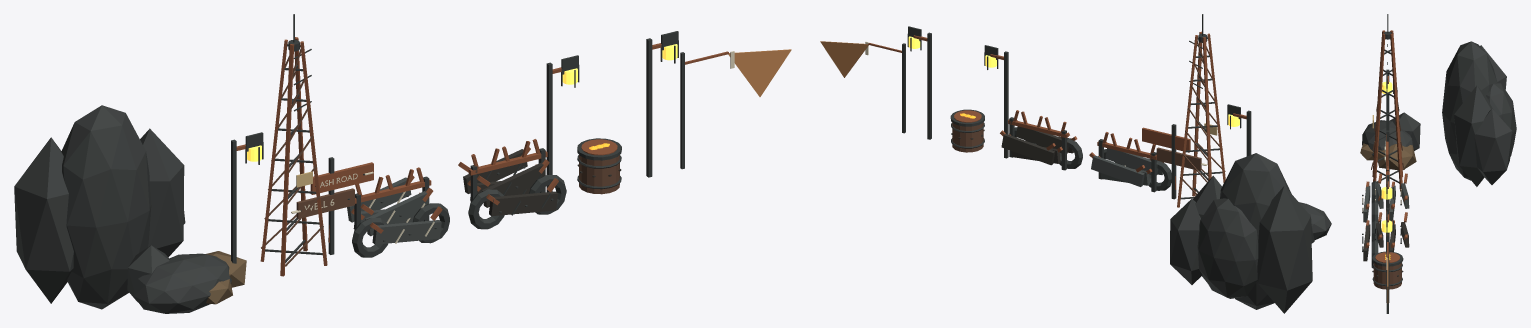
Rendered from kit.glb.
3 renders of one model, left to right at view 1: azimuth 30°, elevation 25°; view 2: azimuth 150°, elevation 25°; view 3: azimuth 270°, elevation 25°, orthographic. The views are drawn at different scales.
Parts seen in each view (by area): view 1: basalt-cliff-face-1, basalt-cliff-face-3, basalt-rock-1, basalt-cliff-face-2, side-job-flag-weathered-cloth, barricade-burnt-salvage-slat, barricade-whole-salvage-slat, ember-pot-drum, mast-leg, sign-upper-arrow, basalt-rock-3, yard-lamp-post-3 (+17 smaller); view 2: basalt-cliff-face-3, basalt-cliff-face-4, basalt-cliff-face-1, basalt-cliff-face-5, side-job-flag-weathered-cloth, barricade-burnt-salvage-slat.003, barricade-whole-salvage-slat.003, ember-pot-drum, basalt-cliff-face-2, sign-upper-arrow, barricade-whole-salvage-slat.001, barricade-burnt-salvage-slat.001 (+11 smaller); view 3: basalt-cliff-face-1, basalt-cliff-face-2, basalt-cliff-face-5, basalt-cliff-face-4, basalt-rock-1, basalt-rock-2, mast-leg.003, mast-leg.002, ember-pot-drum, basalt-rock-3, basalt-cliff-face-3, job-flag-pole (+19 smaller).
Boxes of the visible parts, left/top/right/bottom form: basalt-cliff-face-1: left=61, top=105, right=151, bottom=309; basalt-cliff-face-3: left=14, top=137, right=73, bottom=303; basalt-rock-1: left=133, top=253, right=231, bottom=313; basalt-cliff-face-2: left=140, top=128, right=184, bottom=257; side-job-flag-weathered-cloth: left=728, top=49, right=791, bottom=96; barricade-burnt-salvage-slat: left=489, top=191, right=557, bottom=216; barricade-whole-salvage-slat: left=372, top=220, right=441, bottom=244; ember-pot-drum: left=579, top=155, right=619, bottom=194; mast-leg: left=280, top=44, right=294, bottom=276; sign-upper-arrow: left=310, top=162, right=373, bottom=194; basalt-rock-3: left=127, top=245, right=169, bottom=301; yard-lamp-post-3: left=646, top=38, right=652, bottom=177; basalt-cliff-face-3: left=1257, top=186, right=1312, bottom=313; basalt-cliff-face-4: left=1197, top=198, right=1258, bottom=298; basalt-cliff-face-1: left=1220, top=153, right=1291, bottom=309; basalt-cliff-face-5: left=1170, top=199, right=1202, bottom=284; side-job-flag-weathered-cloth: left=820, top=41, right=868, bottom=77; barricade-burnt-salvage-slat.003: left=1001, top=133, right=1055, bottom=165; barricade-whole-salvage-slat.003: left=1091, top=155, right=1144, bottom=186; ember-pot-drum: left=952, top=122, right=983, bottom=152; basalt-cliff-face-2: left=1193, top=175, right=1221, bottom=281; sign-upper-arrow: left=1142, top=127, right=1190, bottom=152; barricade-whole-salvage-slat.001: left=1105, top=148, right=1157, bottom=174; barricade-burnt-salvage-slat.001: left=1016, top=126, right=1068, bottom=153; basalt-cliff-face-1: left=1442, top=41, right=1497, bottom=180; basalt-cliff-face-2: left=1454, top=85, right=1493, bottom=186; basalt-cliff-face-5: left=1474, top=109, right=1512, bottom=184; basalt-cliff-face-4: left=1486, top=83, right=1516, bottom=156; basalt-rock-1: left=1362, top=120, right=1413, bottom=162; basalt-rock-2: left=1377, top=144, right=1416, bottom=170; mast-leg.003: left=1390, top=34, right=1402, bottom=191; mast-leg.002: left=1373, top=33, right=1385, bottom=181; ember-pot-drum: left=1373, top=263, right=1401, bottom=289; basalt-rock-3: left=1389, top=112, right=1420, bottom=150; basalt-cliff-face-3: left=1480, top=45, right=1506, bottom=89; job-flag-pole: left=1386, top=234, right=1388, bottom=313.
Size of the model in its own units: 16.92 by 7.08 by 4.78.
